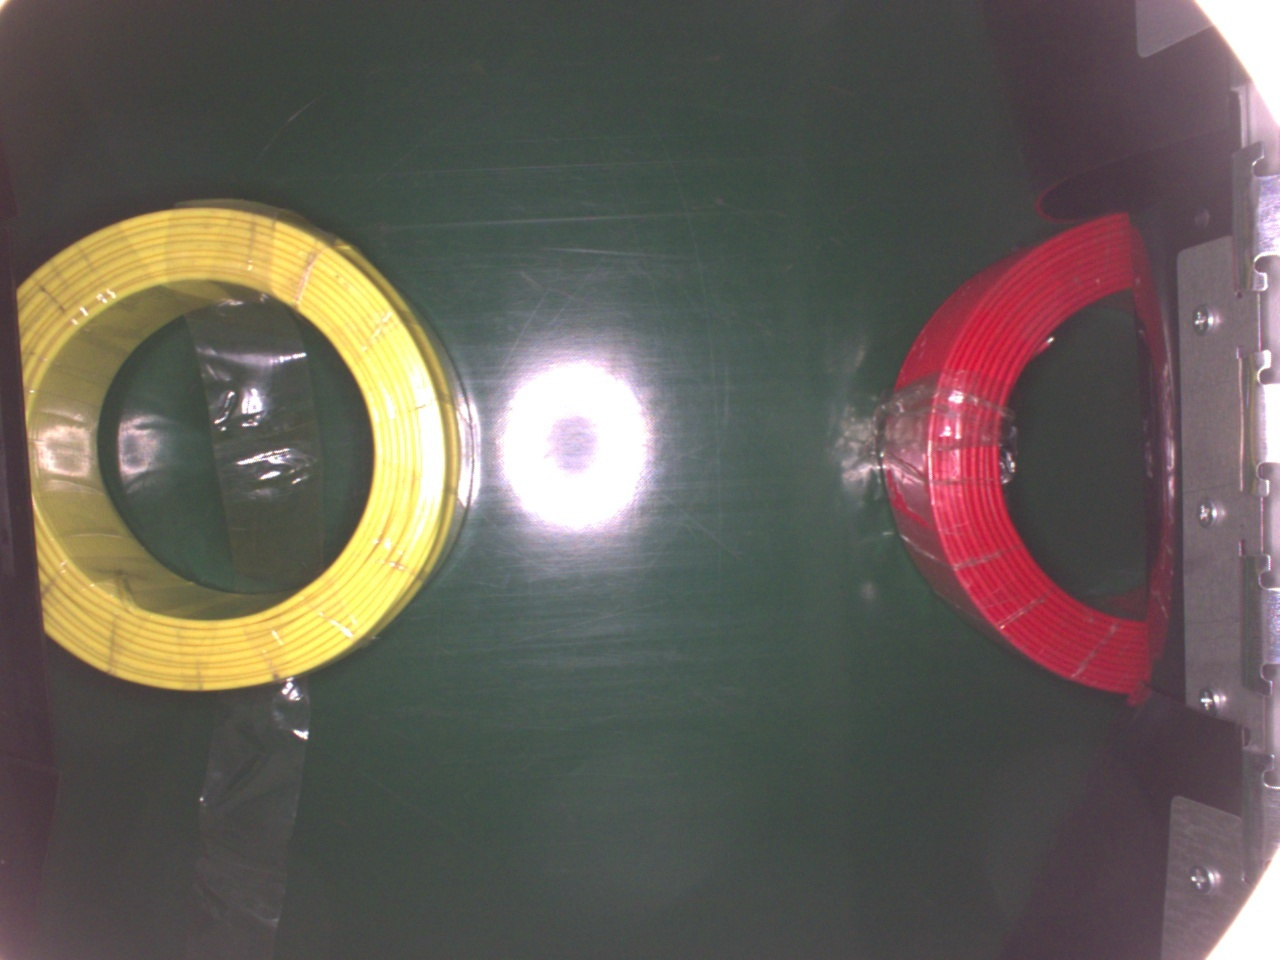red: (880, 207, 1156, 694)
yellow: (12, 195, 472, 695)
